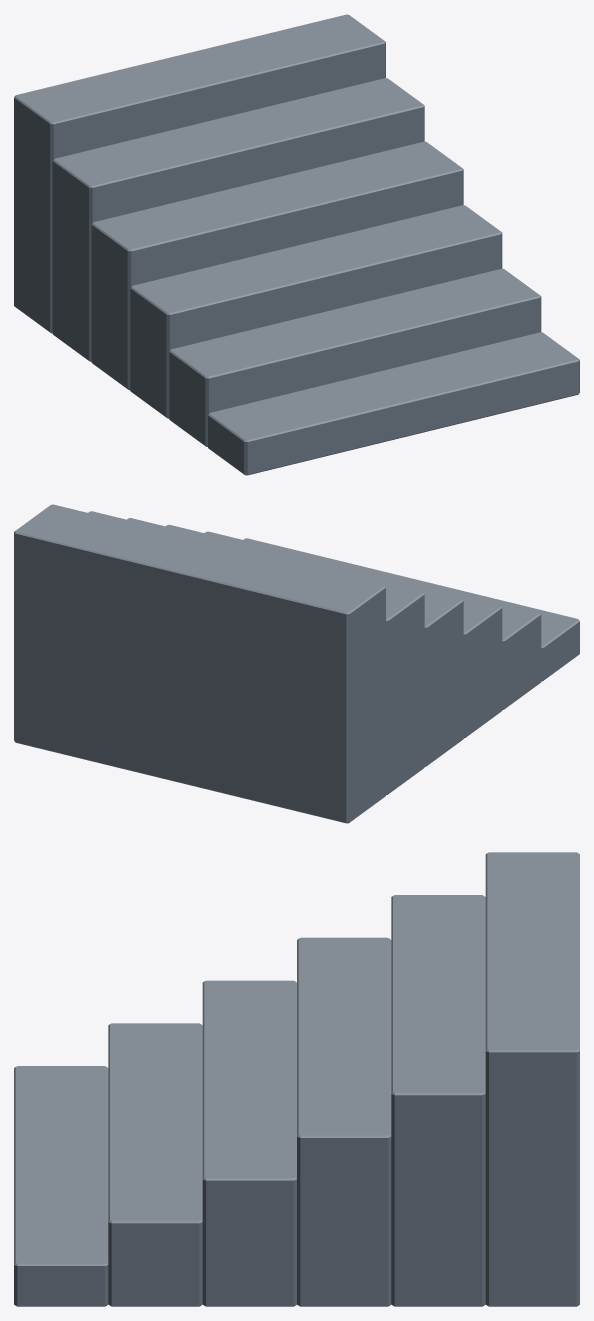
Rendered from stair-full.glb.
3 views of the same model, one above another, from view 1: azimuth 30°, elevation 25°; view 2: azimuth 150°, elevation 25°; view 3: azimuth 270°, elevation 25° (orthographic). The views are drawn at different scales.
Parts seen in each view (by area): view 1: stair-full__body; view 2: stair-full__body; view 3: stair-full__body.
Part boxes in pixels (x1=…): stair-full__body: x1=14, y1=14, x2=579, y2=475; stair-full__body: x1=14, y1=504, x2=579, y2=823; stair-full__body: x1=14, y1=852, x2=579, y2=1306.
Size of the model in its own units: 2 by 1.2 by 2.4.
